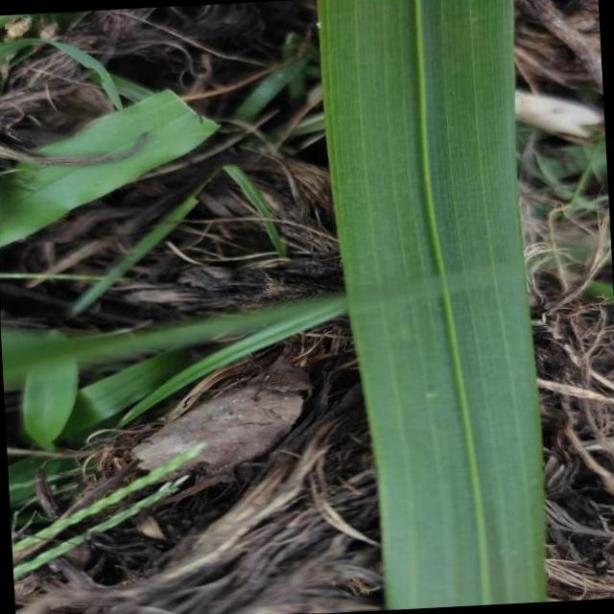Healthy: (316, 1, 545, 614)
